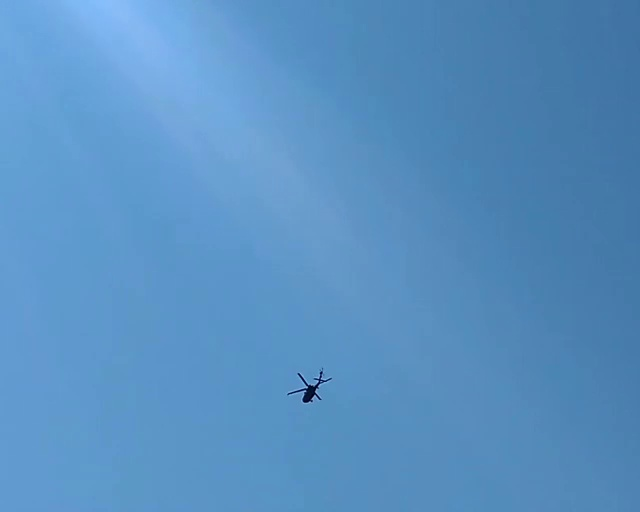HELICOPTER: (286, 366, 332, 403)
